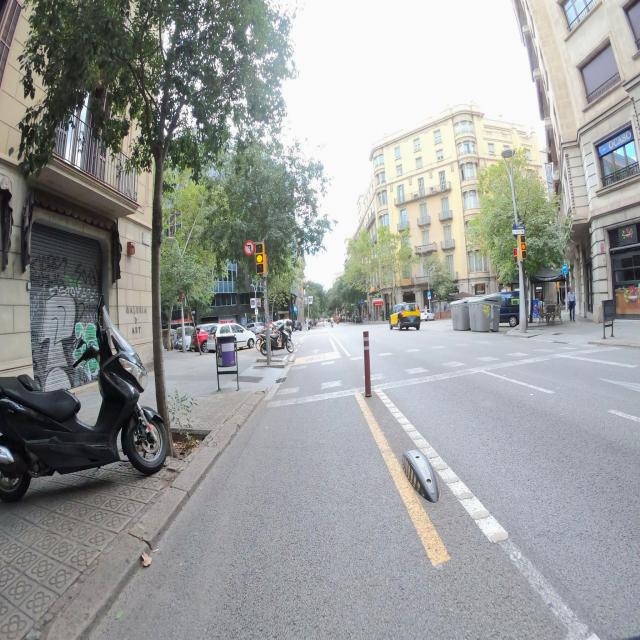bike: (0, 295, 172, 485), (257, 326, 295, 354), (331, 320, 334, 328)
car: (203, 322, 257, 353), (388, 302, 421, 331), (492, 292, 520, 326), (191, 322, 217, 353), (177, 326, 195, 352), (420, 308, 434, 322)
